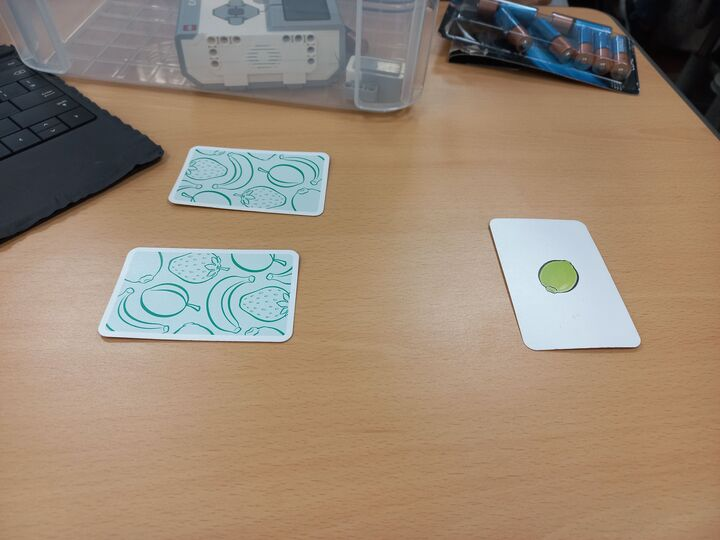lime1: (487, 216, 643, 351)
